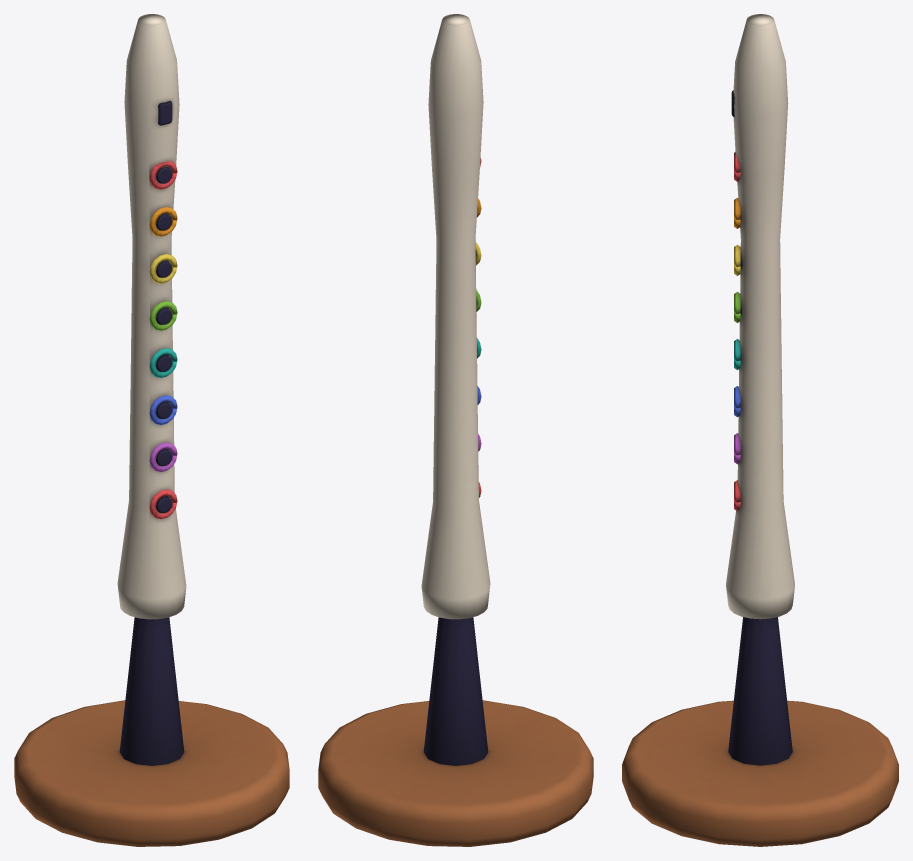
Rendered from Recorder.fbx.
3 views of the same model, side by side, from view 1: azimuth 30°, elevation 25°; view 2: azimuth 150°, elevation 25°; view 3: azimuth 270°, elevation 25° (orthographic).
Parts seen in each view (by area): view 1: Recorder_Body, Key_5_Mesh.003, Key_6_Mesh.003, Key_2_Mesh.004, Key_3_Mesh.003, Key_4_Mesh.003, Key_7_Mesh.003, Key_1_Mesh.004, Key_0_Mesh.004; view 2: Recorder_Body; view 3: Recorder_Body.
Boxes of the visible parts, <box> form: Recorder_Body: <box>14,14,289,846</box>; Key_5_Mesh.003: <box>149,395,177,425</box>; Key_6_Mesh.003: <box>149,442,177,472</box>; Key_2_Mesh.004: <box>149,254,177,283</box>; Key_3_Mesh.003: <box>149,301,177,330</box>; Key_4_Mesh.003: <box>149,348,177,377</box>; Key_7_Mesh.003: <box>149,489,177,519</box>; Key_1_Mesh.004: <box>149,207,177,236</box>; Key_0_Mesh.004: <box>149,161,177,189</box>; Recorder_Body: <box>318,14,593,846</box>; Recorder_Body: <box>622,14,898,846</box>.
Size of the model in its own units: 0.24 by 0.74 by 0.24.
